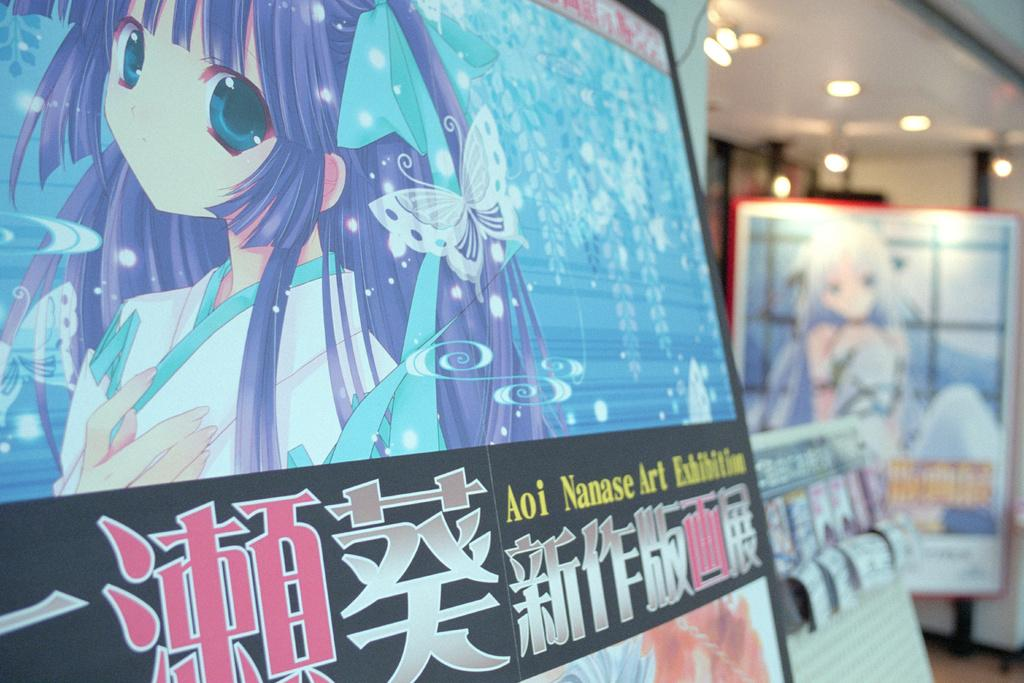Sem Máscara: (99, 0, 276, 210), (820, 259, 873, 318)
